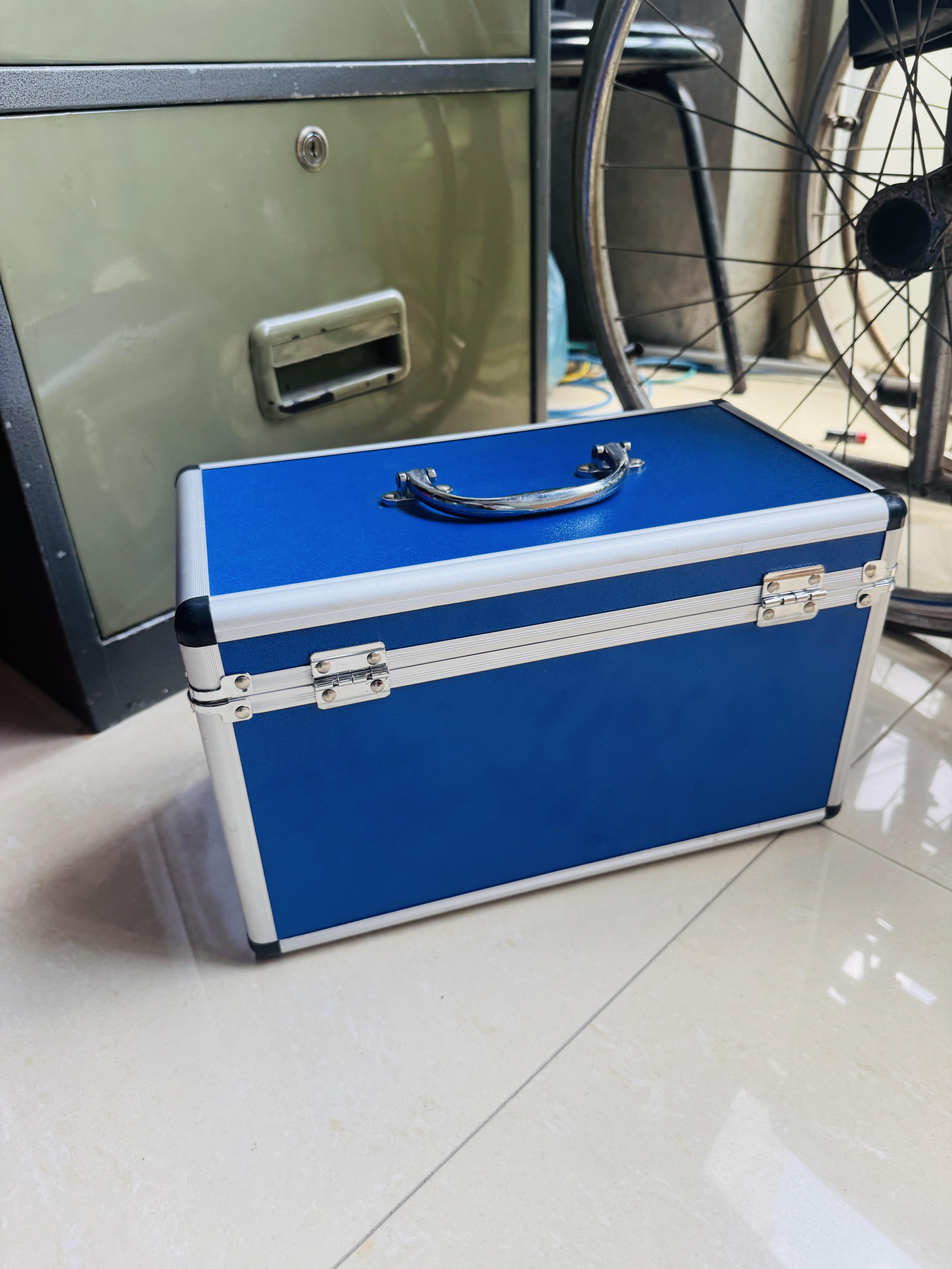FirstAidBox: (140, 375, 926, 976)
